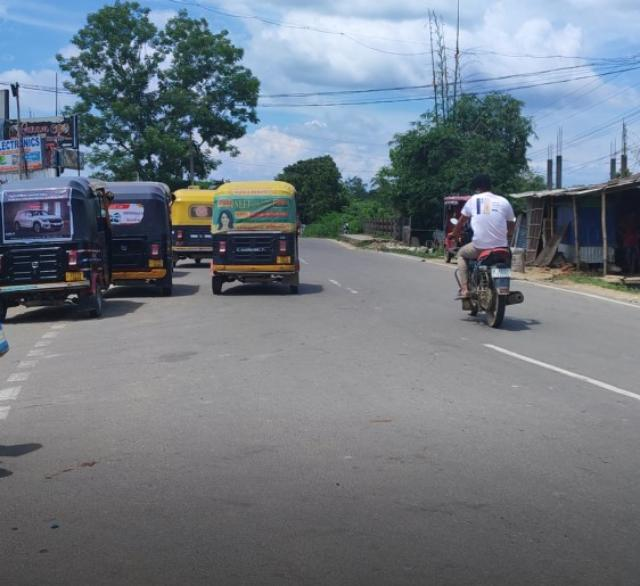licensePlate: (489, 266, 516, 278)
motorcycle: (447, 169, 525, 328)
withoutHelmet: (472, 175, 495, 196)
